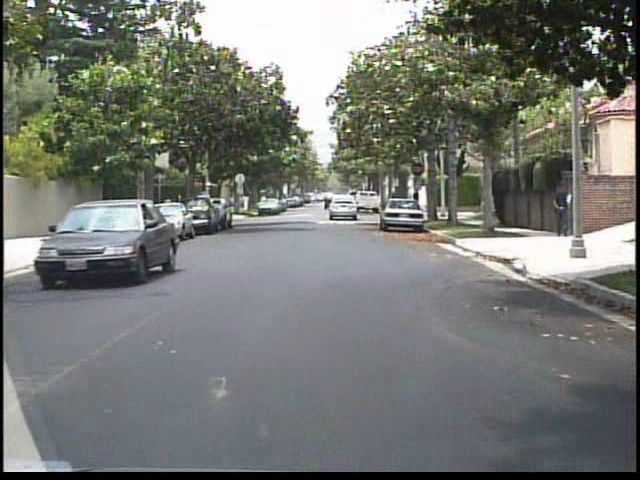person: (549, 177, 571, 241), (161, 191, 177, 232)
